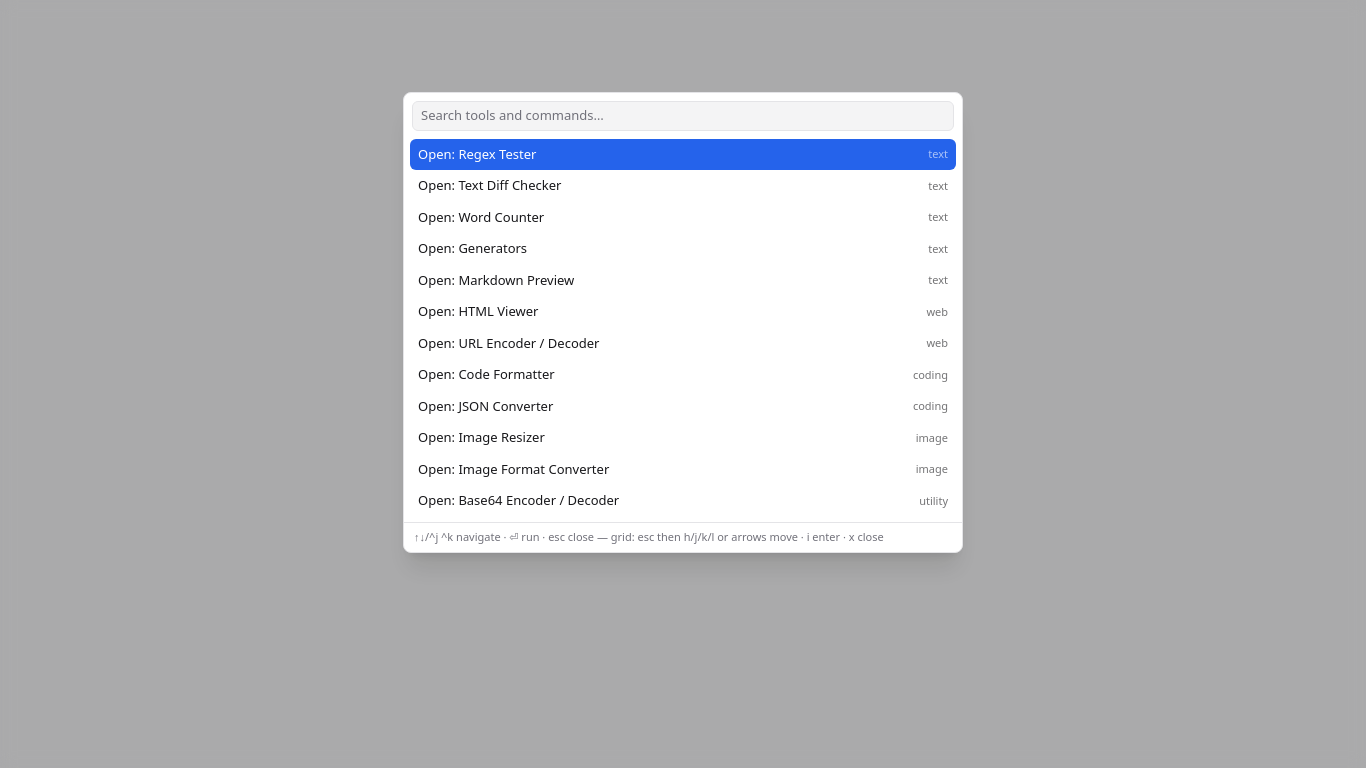
Test: CommandPalette › filters commands by query and opens tool on Enter
Step 1. Type "layout as" into the field with placeholder "Search tools and commands…" → (683, 116), box [412,101,954,131]
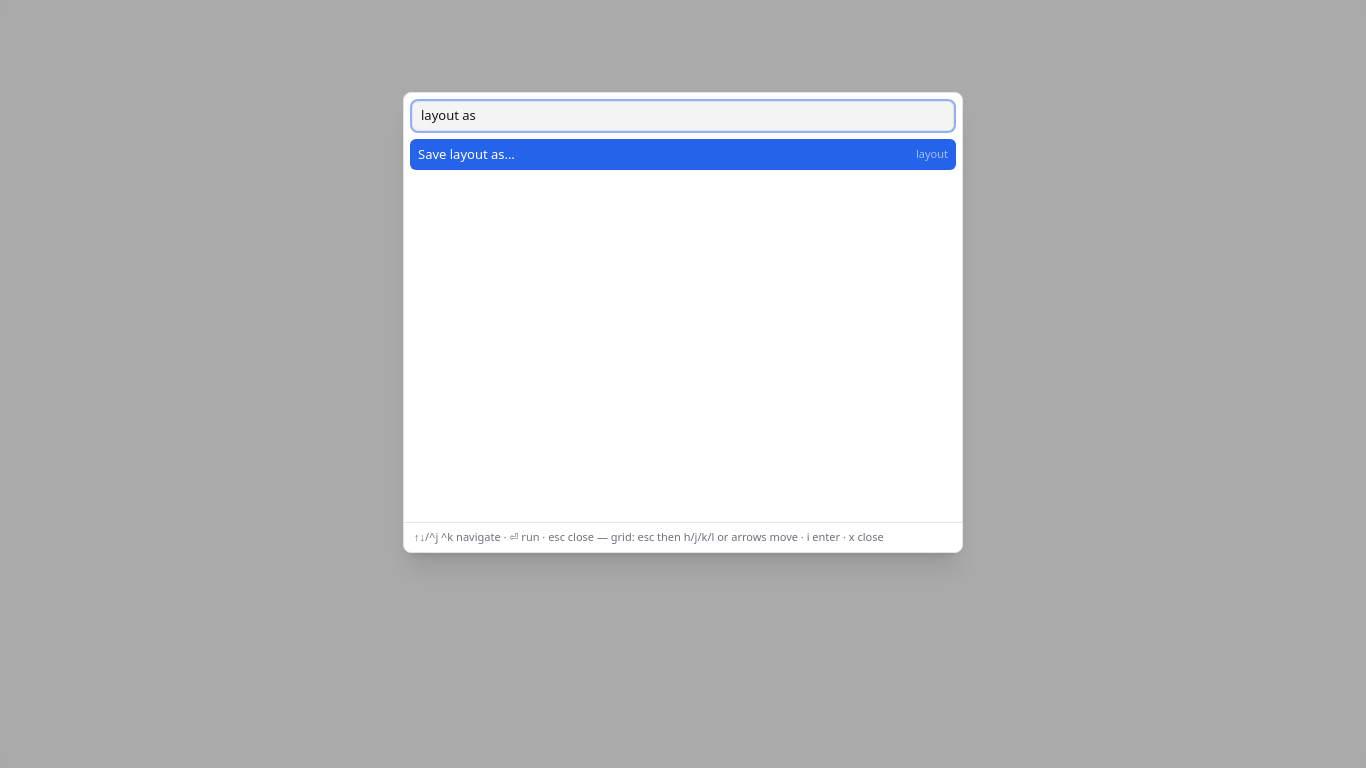
Result: the text "Save layout as…" is shown at [418,145,515,164]
